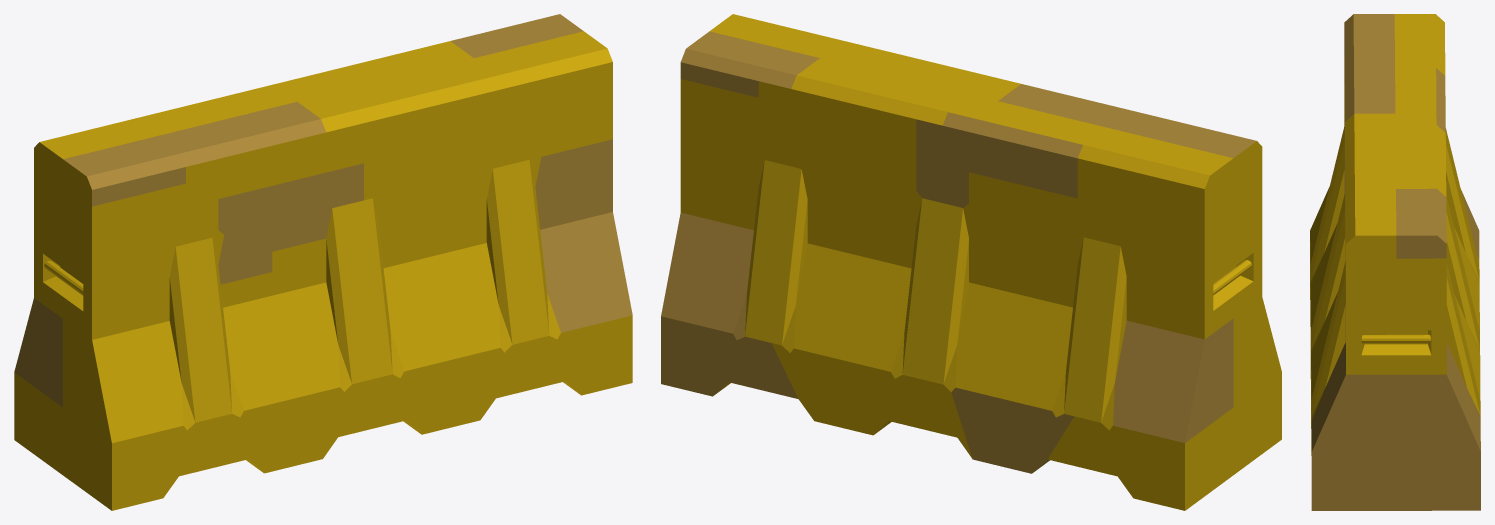
The model's file is plasticbarrier.001_lev1_lev3.glb.
3 views of the same model, side by side, from view 1: azimuth 30°, elevation 25°; view 2: azimuth 150°, elevation 25°; view 3: azimuth 270°, elevation 25° (orthographic). The views are drawn at different scales.
Visible parts, largest first — view 1: plasticbarrier.001_lev1_lev3; view 2: plasticbarrier.001_lev1_lev3; view 3: plasticbarrier.001_lev1_lev3.
Boxes of the visible parts, x1,y1,x2,y2 form: plasticbarrier.001_lev1_lev3: (14,14,632,510); plasticbarrier.001_lev1_lev3: (661,14,1281,510); plasticbarrier.001_lev1_lev3: (1310,14,1480,510).
Size of the model in its own units: 3.37 by 1.95 by 1.1.
Materials: 1 (1 with a texture image).
